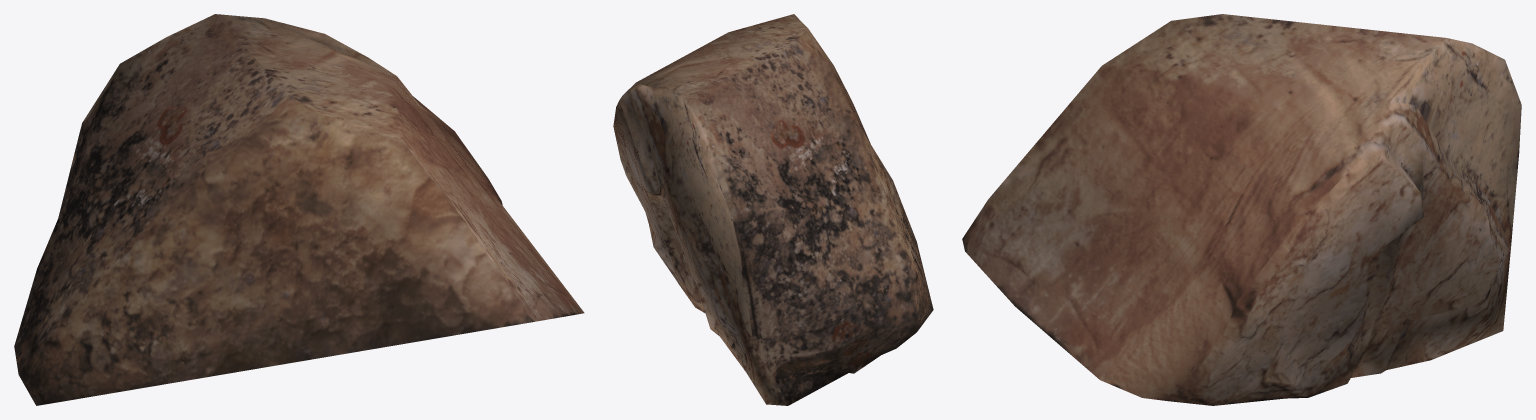
Rendered from Mesh_Boulder_02_AJ.fbx.
3 renders of one model, left to right at view 1: azimuth 30°, elevation 25°; view 2: azimuth 150°, elevation 25°; view 3: azimuth 270°, elevation 25°, orthographic. The views are drawn at different scales.
Parts seen in each view (by area): view 1: Mesh_Boulder_02_AJ; view 2: Mesh_Boulder_02_AJ; view 3: Mesh_Boulder_02_AJ.
Part boxes in pixels (bbox=[...]): Mesh_Boulder_02_AJ: bbox=[14, 14, 584, 405]; Mesh_Boulder_02_AJ: bbox=[613, 14, 933, 405]; Mesh_Boulder_02_AJ: bbox=[962, 14, 1521, 405].
Size of the model in its own units: 3362 by 2499 by 3460.
